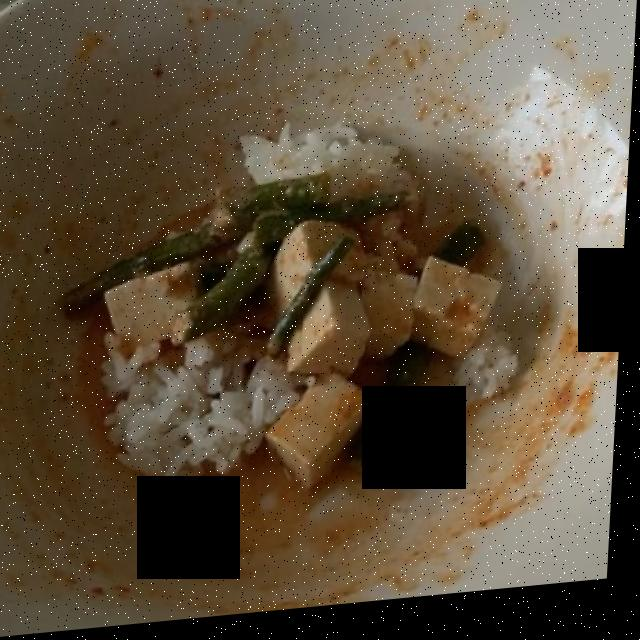green-bean-steamed-without-addition-of-salt: (58, 191, 488, 465)
rice: (107, 127, 521, 478)
sauce-curry: (84, 318, 341, 525)
tofu: (106, 233, 528, 488)
